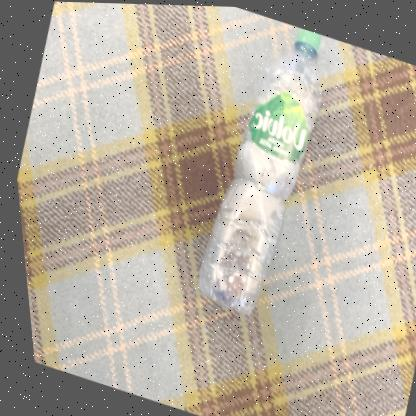Plastic: (192, 25, 320, 311)
